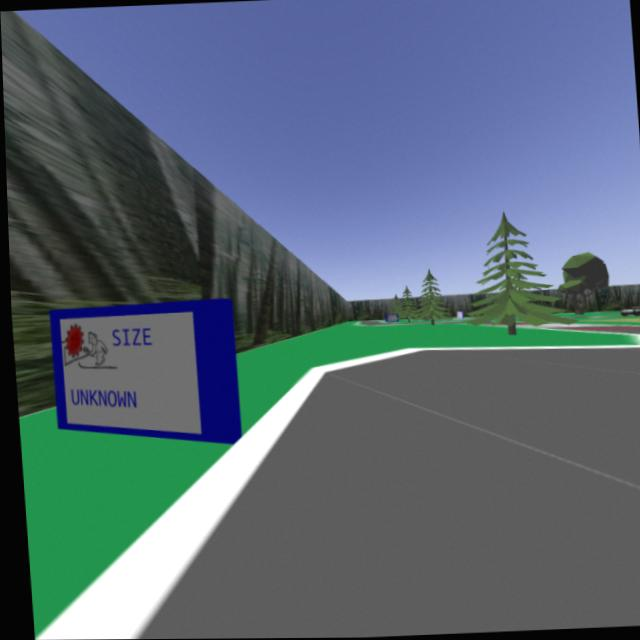clueboard: (45, 294, 248, 458)
